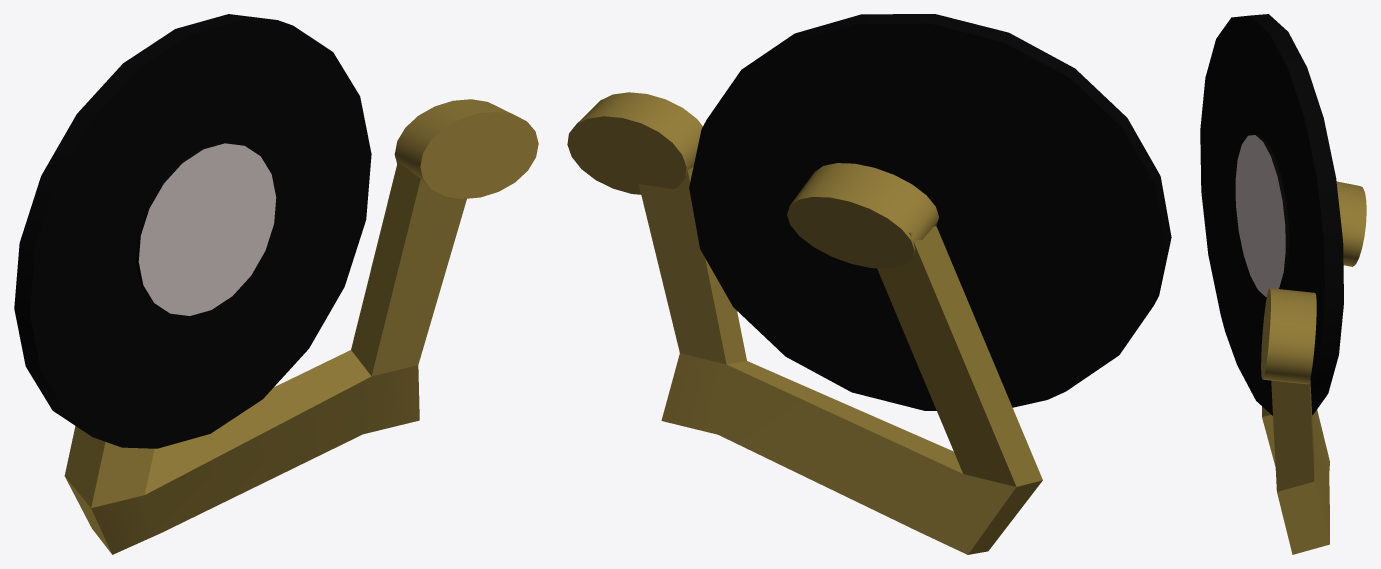
File: music.fbx
3 renders of one model, left to right at view 1: azimuth 30°, elevation 25°; view 2: azimuth 150°, elevation 25°; view 3: azimuth 270°, elevation 25°, orthographic. The views are drawn at different scales.
Visible parts, largest first — view 1: pCylinder3, pCube2; view 2: pCylinder3, pCube2; view 3: pCylinder3, pCube2.
Part boxes in pixels (box(x1,y1,x2,y2)): pCylinder3: box(14, 14, 371, 448); pCube2: box(64, 99, 538, 554); pCylinder3: box(689, 14, 1171, 410); pCube2: box(567, 92, 1042, 554); pCylinder3: box(1200, 14, 1343, 415); pCube2: box(1261, 181, 1366, 554).
Size of the model in its own units: 14.74 by 13.15 by 4.23.
